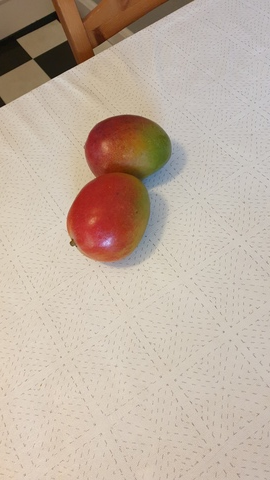Mango: (85, 115, 171, 176)
